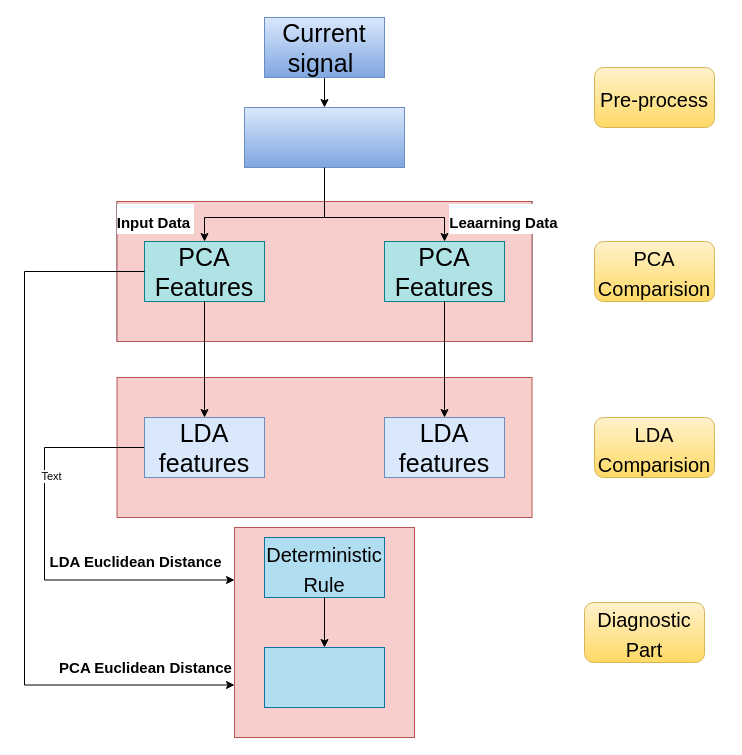
The diagram is 742 pixels wide and 755 high, and some of its shapes have lost their labels. The centre of each missing label's shape, as x and y in pixels:
"Diagnosis" goes at pixel 324 677.
"Synchronization" goes at pixel 324 137.
